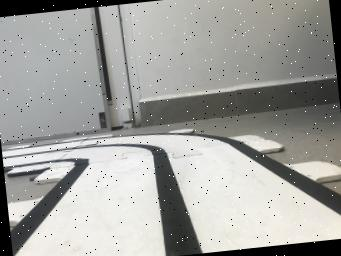street: (1, 133, 341, 256), (1, 133, 341, 256), (1, 133, 341, 256)
